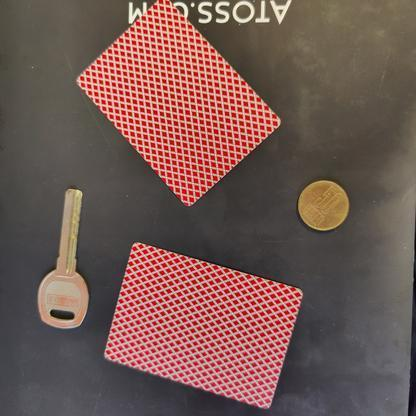card: (75, 1, 288, 215), (100, 237, 311, 414)
